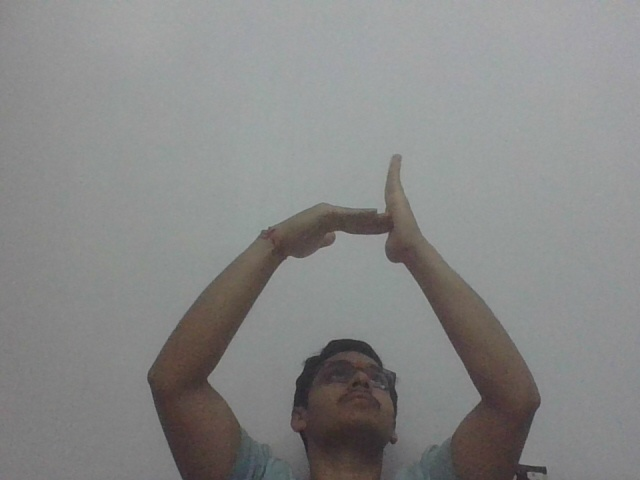Z: (281, 148, 427, 276)
